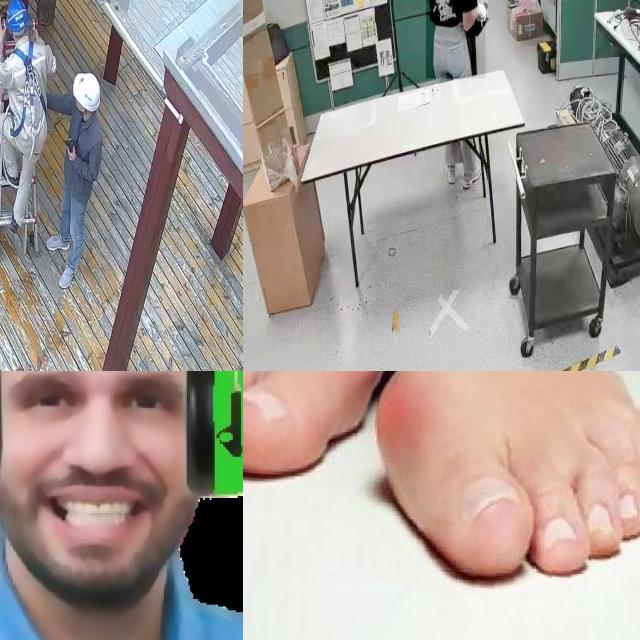Barefoots: (374, 371, 640, 577)
Ear-protection: (0, 371, 243, 515)
Harness: (5, 37, 49, 140)
hand_glove: (477, 0, 488, 22)
person: (426, 0, 486, 79)
shoes: (460, 158, 484, 192), (442, 158, 458, 192)
